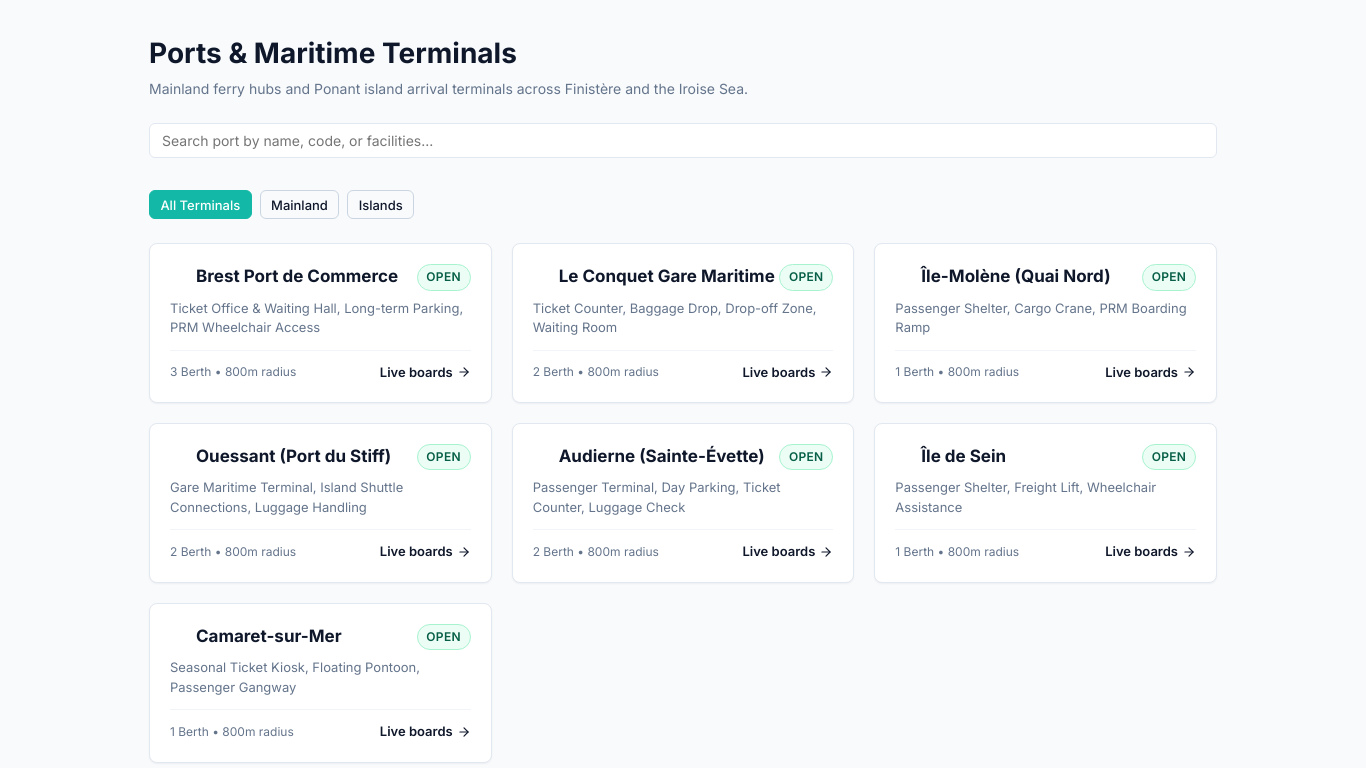
Test case: PortsPage Component › filters ports by Island tab
Click the button "Islands". click: (381, 205)
box: x1=347 y1=190 x2=414 y2=219
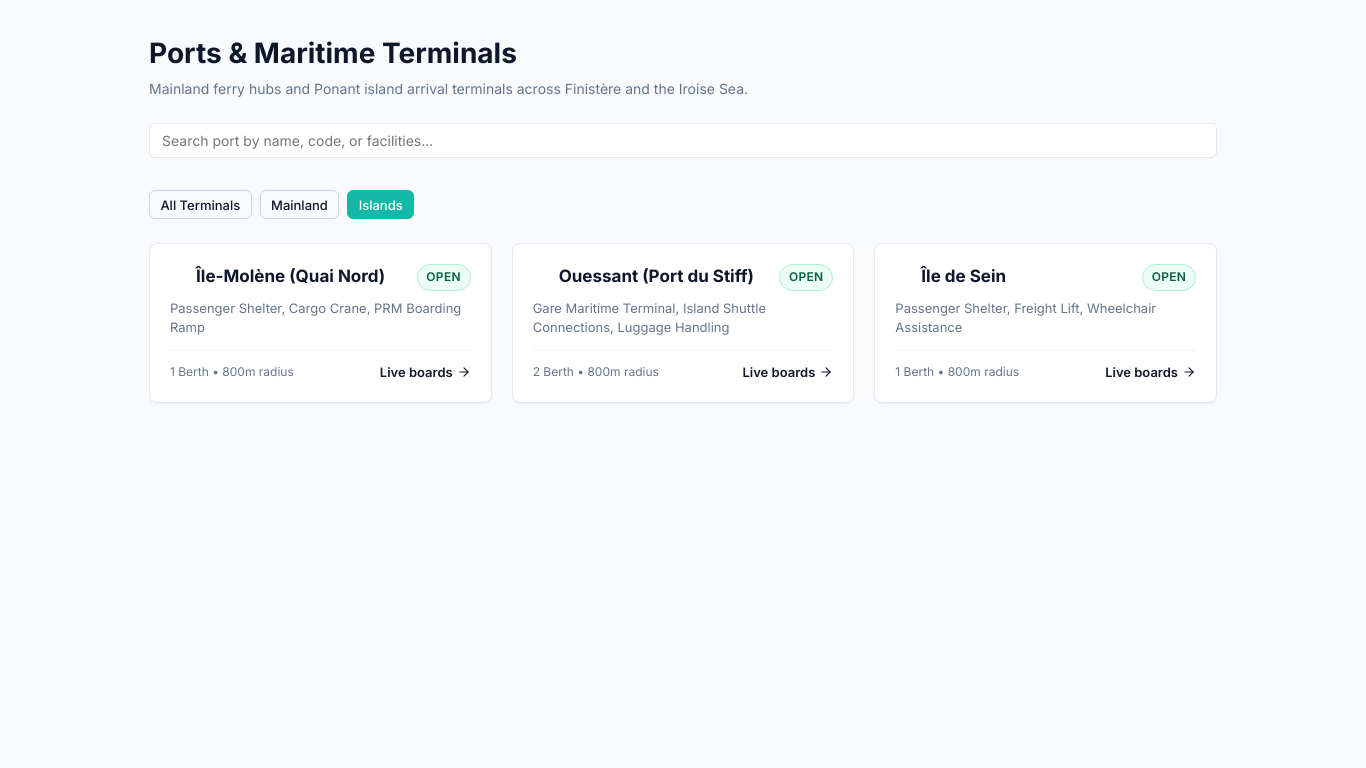
Expected: the heading "Ouessant (Port du Stiff)" is shown, x1=559 y1=264 x2=754 y2=290
Expected: the heading "Brest Port de Commerce" is gone
